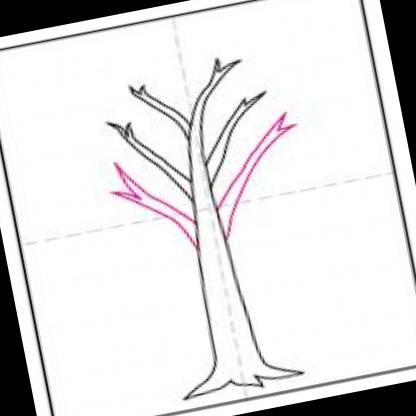root_only: (177, 352, 306, 404)
trunk_straight: (194, 252, 260, 364)
